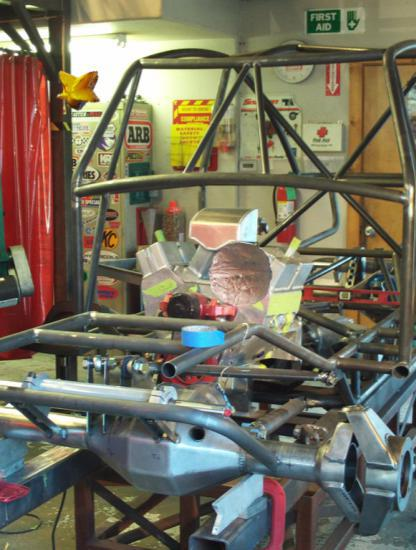Carambula: (53, 65, 104, 116)
Walnut: (207, 242, 273, 308)
